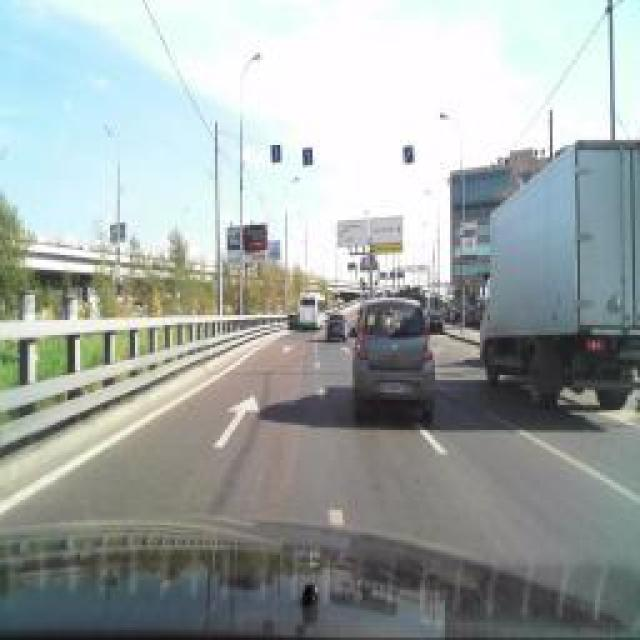sign: (270, 144, 282, 164), (403, 145, 415, 165), (302, 148, 312, 168)
